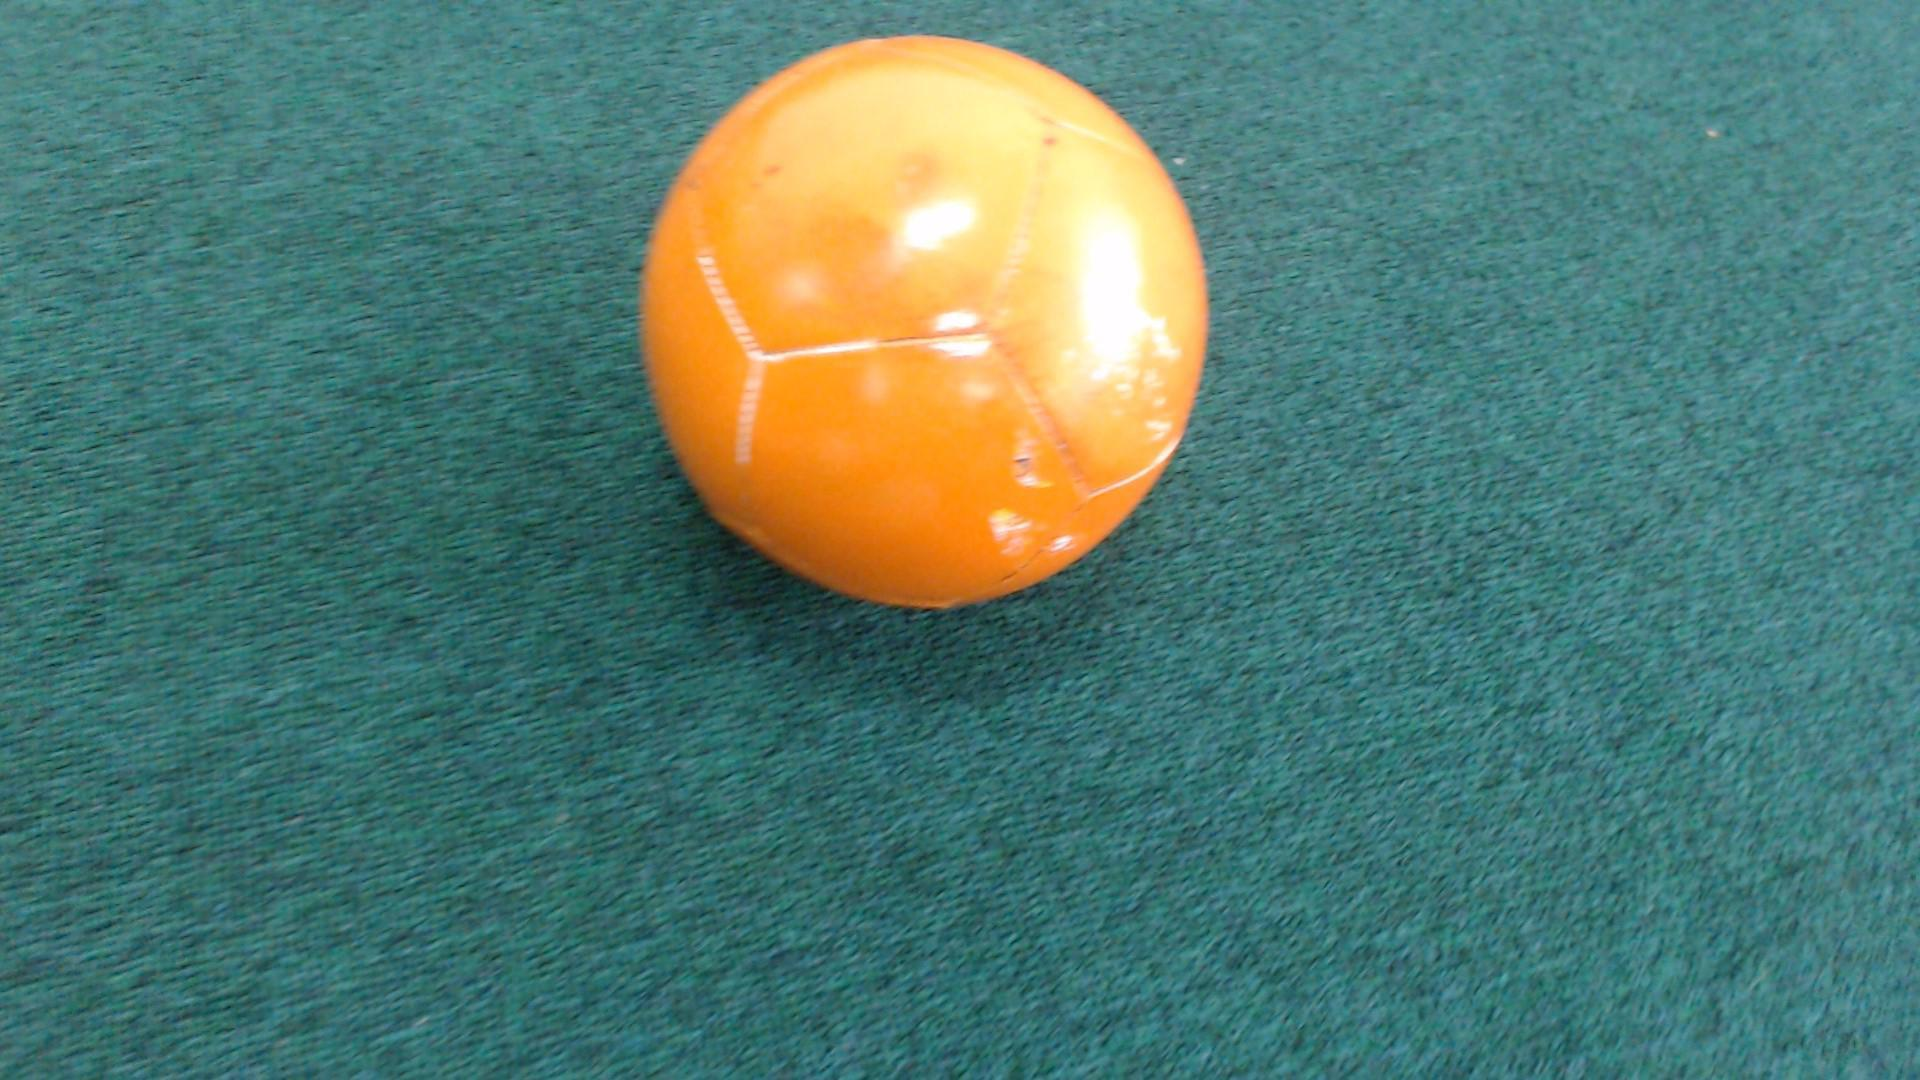bola: (608, 3, 1278, 637)
